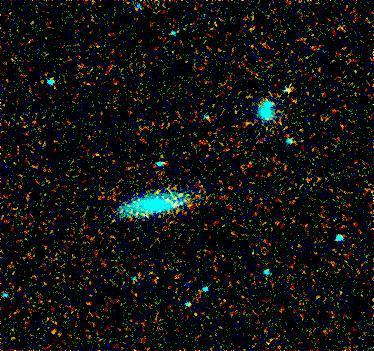star: (158, 187, 188, 217)
